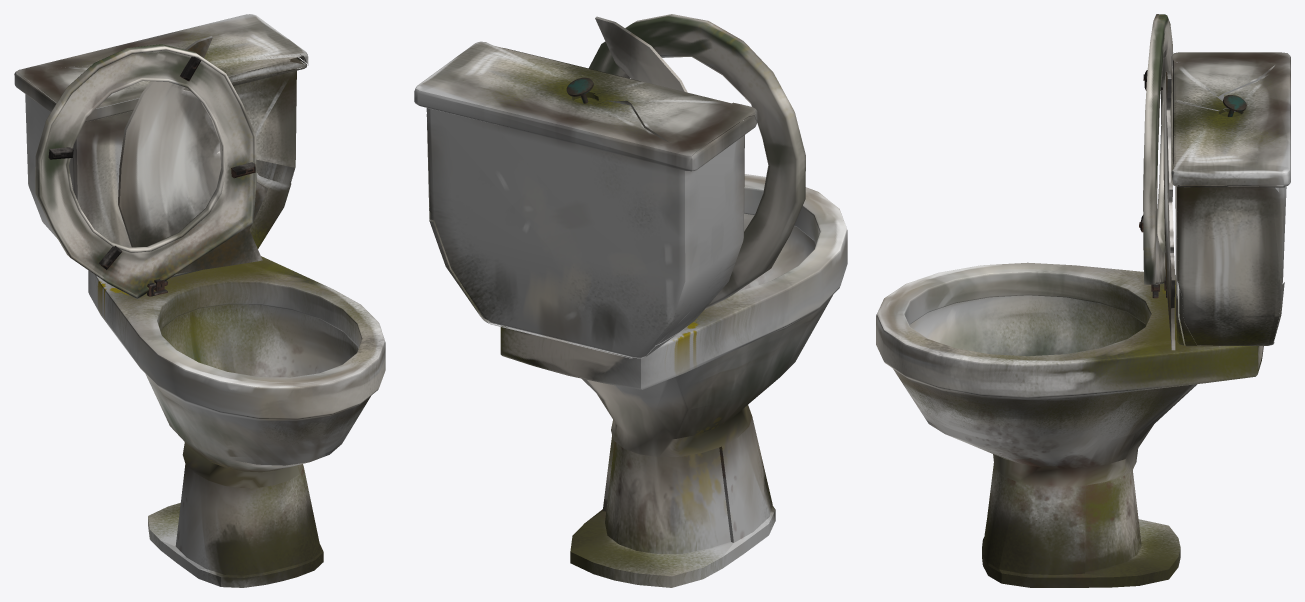
File: nasty_toilet.glb
3 renders of one model, left to right at view 1: azimuth 30°, elevation 25°; view 2: azimuth 150°, elevation 25°; view 3: azimuth 270°, elevation 25°, orthographic. The views are drawn at different scales.
Parts seen in each view (by area): view 1: body, backdo, dolokk_hull, dolokk, lokkklump2; view 2: backdo, body, dolokk_hull, dolokk; view 3: body, backdo, dolokk_hull, dolokk.
Boxes of the visible parts, bbox=[...] form: body: bbox=[88, 256, 385, 587]; backdo: bbox=[14, 14, 308, 277]; dolokk_hull: bbox=[35, 44, 256, 298]; dolokk: bbox=[118, 36, 267, 273]; lokkklump2: bbox=[48, 56, 255, 269]; backdo: bbox=[414, 41, 757, 358]; body: bbox=[500, 174, 847, 587]; dolokk_hull: bbox=[588, 14, 805, 309]; dolokk: bbox=[595, 16, 687, 92]; body: bbox=[876, 262, 1263, 587]; backdo: bbox=[1171, 52, 1290, 346]; dolokk_hull: bbox=[1143, 14, 1173, 284]; dolokk: bbox=[1163, 71, 1175, 350].
Bounding box in the file's own units: 0.0371 × 0.0624 × 0.0467.
Materials: 7 (7 with a texture image).
